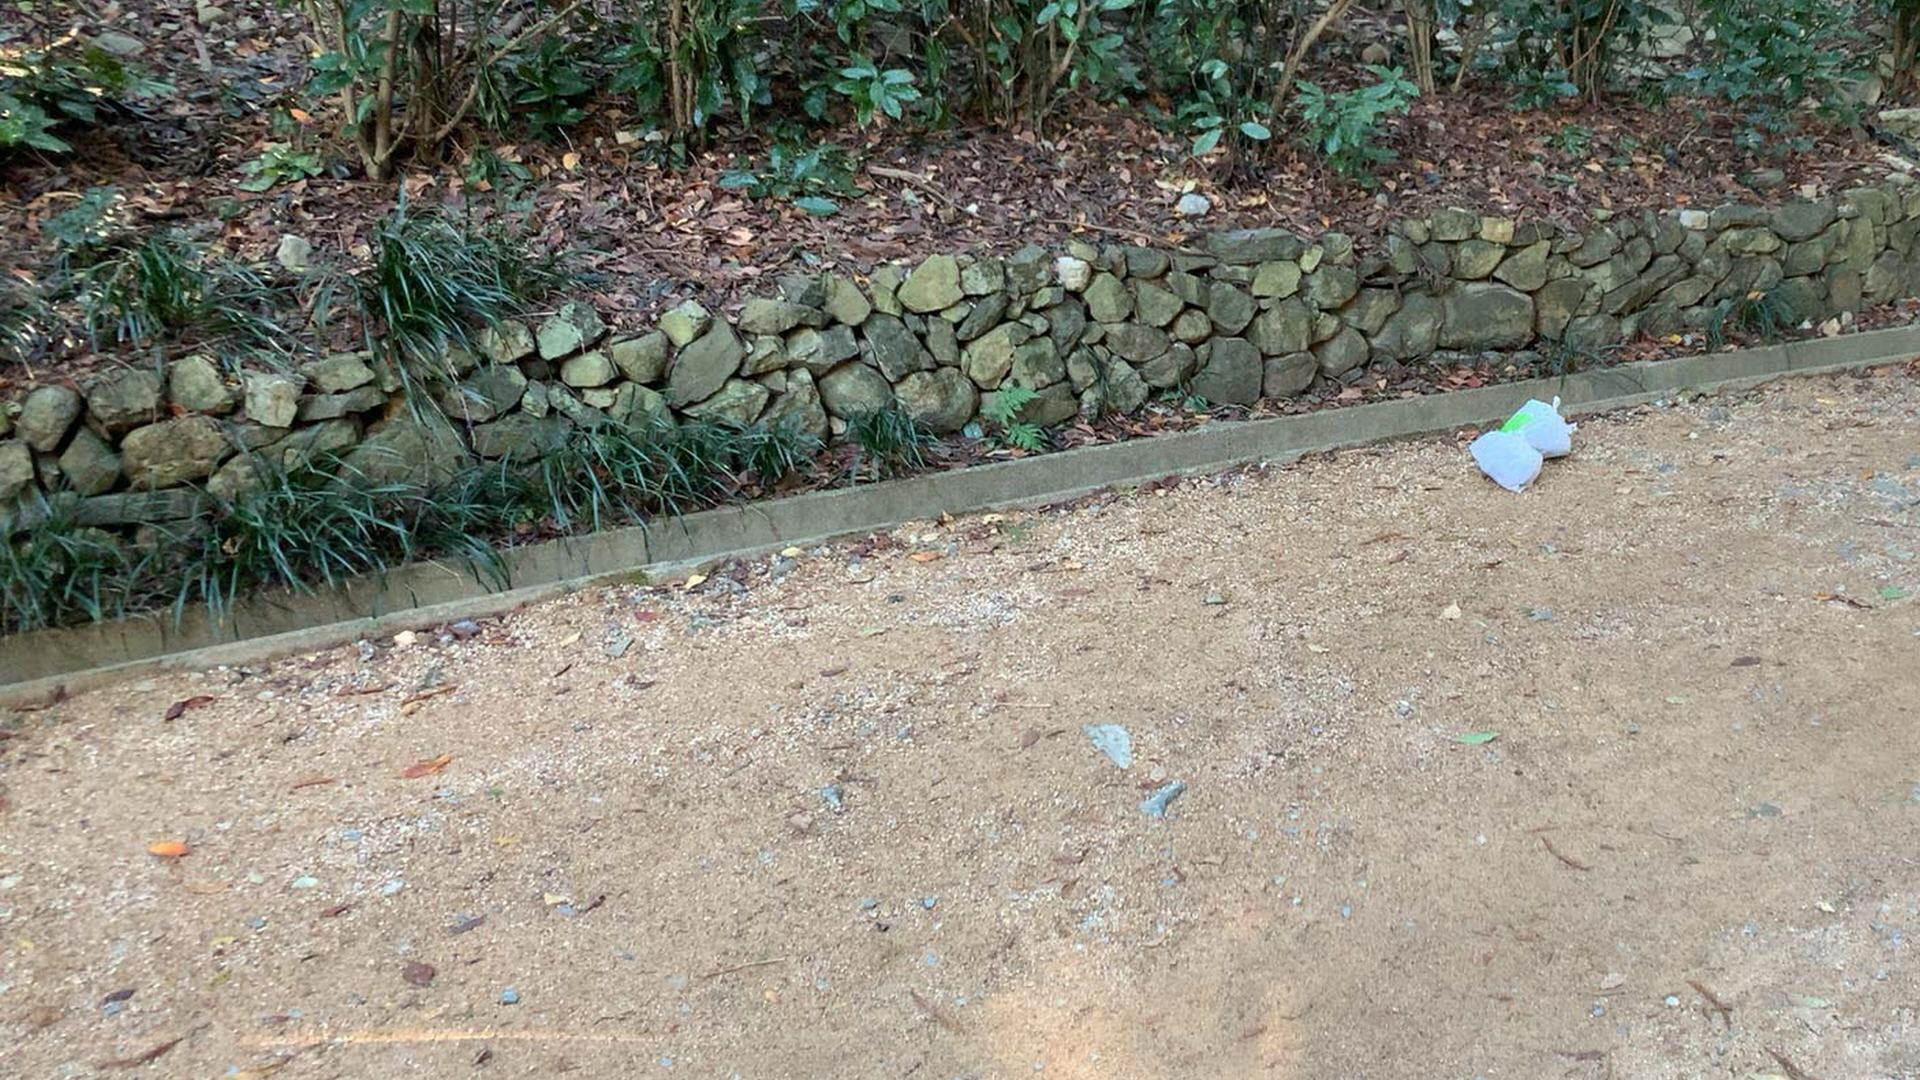white_bag: (1462, 426, 1549, 495), (1499, 393, 1575, 462)
